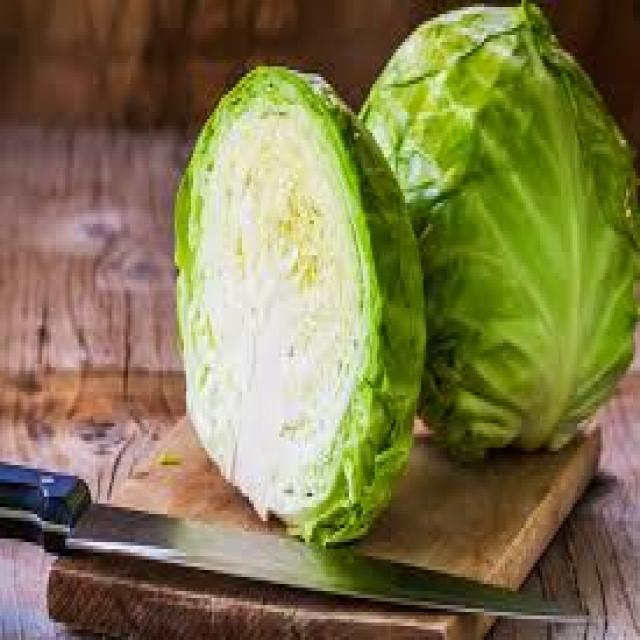organic waste: (358, 0, 638, 462), (172, 59, 421, 546)
